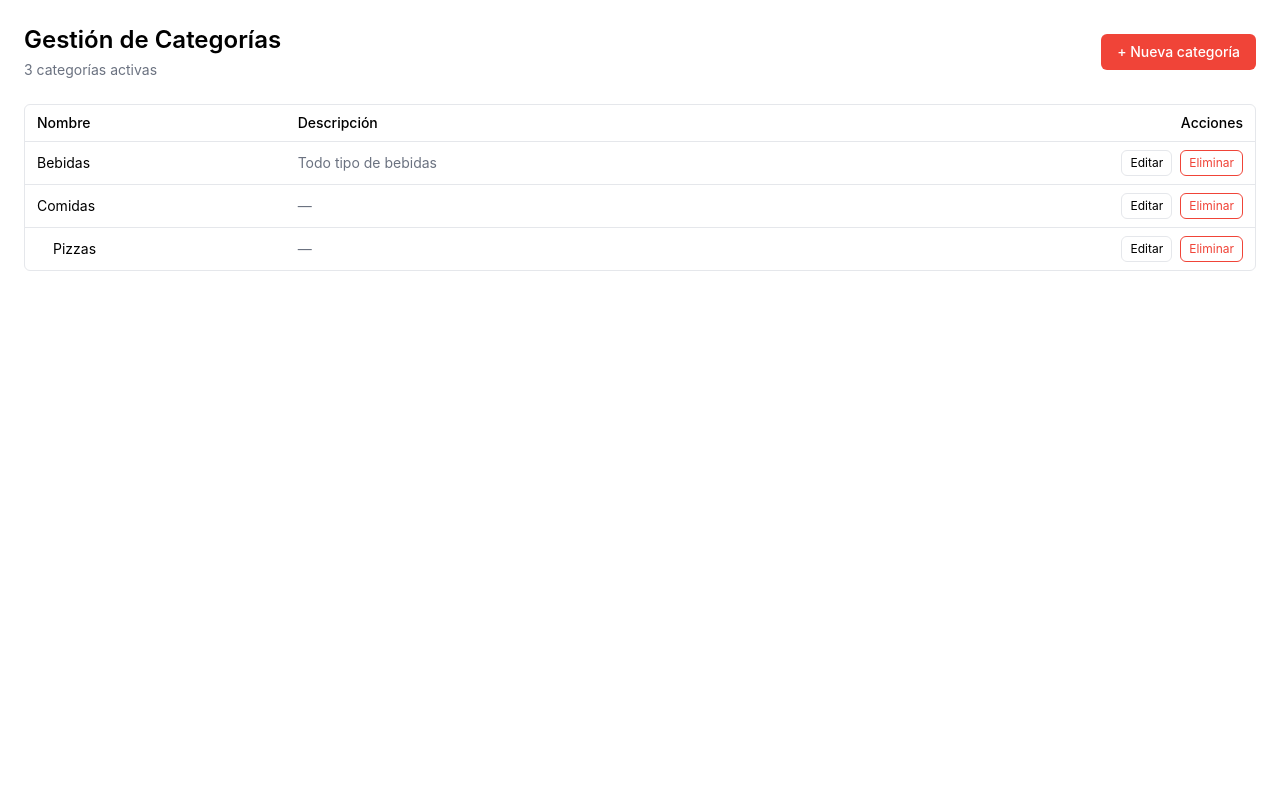
StockCategoriesPage › opens create modal when "Nueva categoría" is clicked
Click the button "+ Nueva categoría" at (1179, 52), box [1101,34,1256,70]
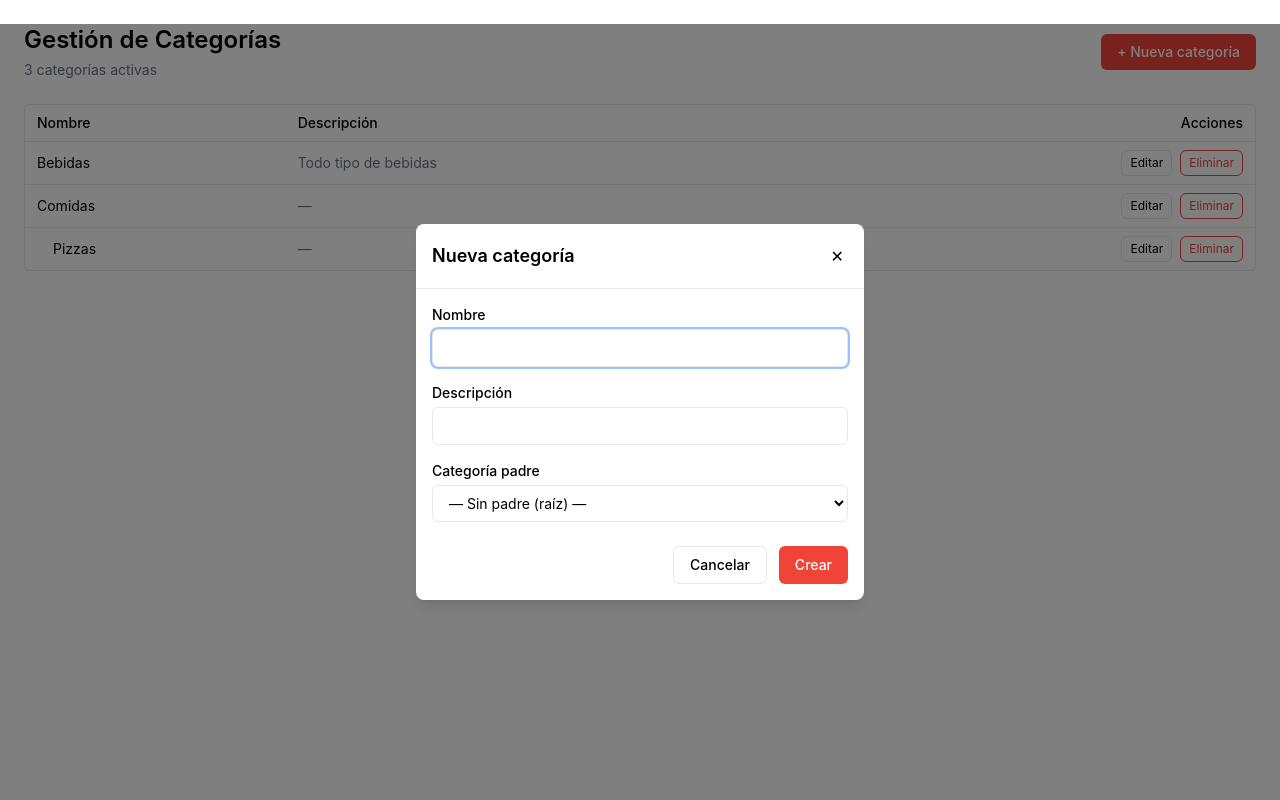
Now the dialog is shown
Now the heading "Nueva categoría" is shown, box [432,242,575,270]
